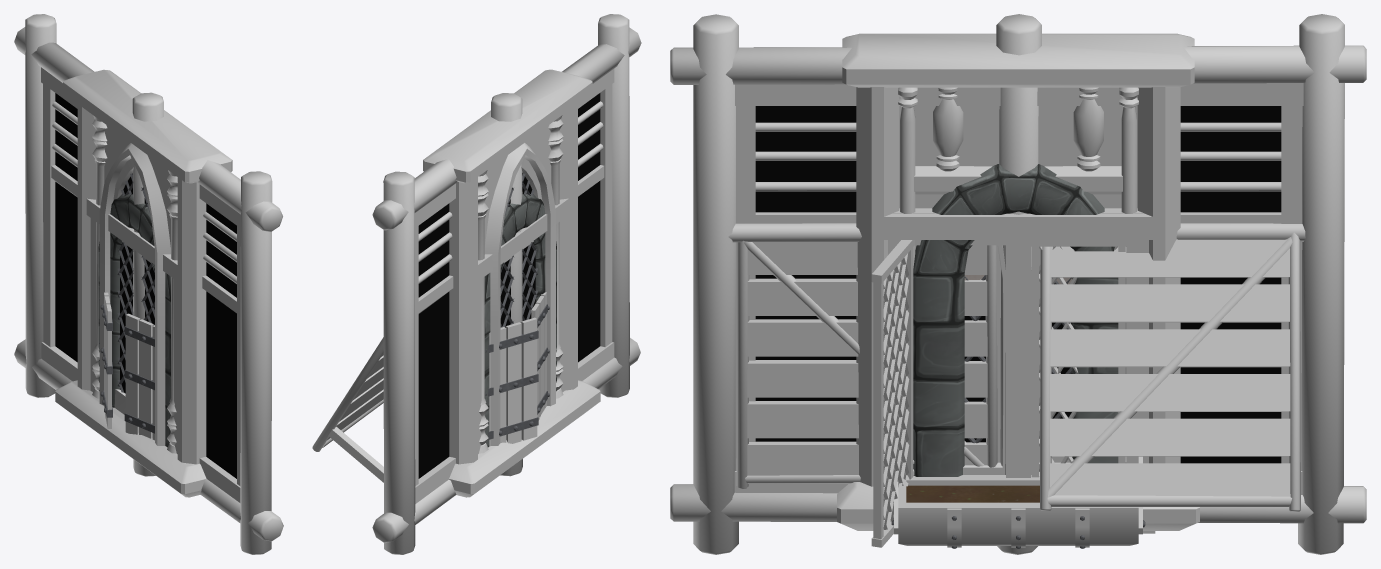
File: windows.fbx
The picture shows the model from 3 angles, left to right: view 1: azimuth 30°, elevation 25°; view 2: azimuth 150°, elevation 25°; view 3: azimuth 270°, elevation 25°; orthographic projection. The views are drawn at different scales.
Parts seen in each view (by area): view 1: frame, frame.002, black, window, frame.008, LOD_012.6, LOD_012.09, bricks, windowframe, LOD_0123.8; view 2: frame, frame.002, black, window, frame.008, LOD_012.6, LOD_0123.8, LOD_012.09, windowframe, bricks; view 3: LOD_0123.8, frame, frame.002, black, frame.008, bricks, LOD_012.5, windowframe, planter, LOD_012.09, window.
Boxes of the visible parts, box(x1,y1,x2,y2) form: frame: box(14, 14, 283, 554); frame.002: box(55, 69, 232, 497); black: box(55, 93, 236, 478); window: box(99, 125, 170, 445); frame.008: box(41, 67, 240, 502); LOD_012.6: box(99, 292, 154, 440); LOD_012.09: box(92, 115, 177, 453); bricks: box(98, 194, 170, 447); windowframe: box(86, 198, 177, 453); LOD_0123.8: box(52, 101, 236, 283); frame: box(372, 14, 641, 554); frame.002: box(423, 69, 600, 497); black: box(418, 93, 600, 478); window: box(484, 125, 555, 445); frame.008: box(415, 69, 614, 503); LOD_012.6: box(485, 292, 549, 446); LOD_0123.8: box(312, 101, 603, 482); LOD_012.09: box(478, 115, 563, 453); windowframe: box(478, 198, 568, 453); bricks: box(484, 194, 556, 447); LOD_0123.8: box(728, 122, 1305, 511); frame: box(670, 14, 1366, 554); frame.002: box(837, 33, 1199, 530); black: box(755, 106, 1281, 463); frame.008: box(734, 83, 1303, 494); bricks: box(913, 164, 1118, 476); LOD_012.5: box(871, 240, 1126, 547); windowframe: box(884, 213, 1155, 533); planter: box(894, 456, 1142, 547); LOD_012.09: box(898, 87, 1138, 475); window: box(899, 106, 1137, 474).
Size of the model in its own units: 391 by 325 by 121.
